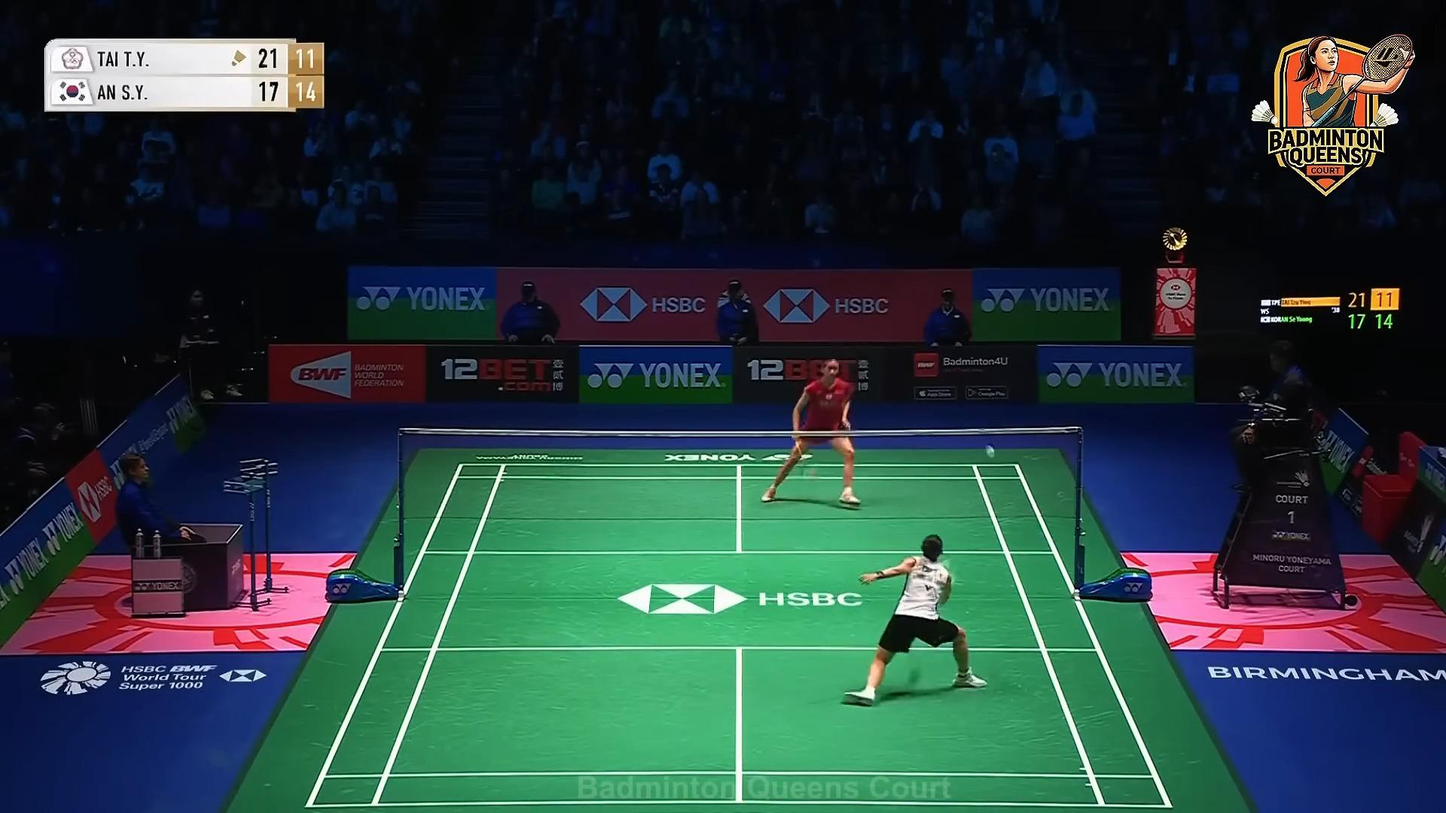shuttlecock: (985, 444, 996, 458)
